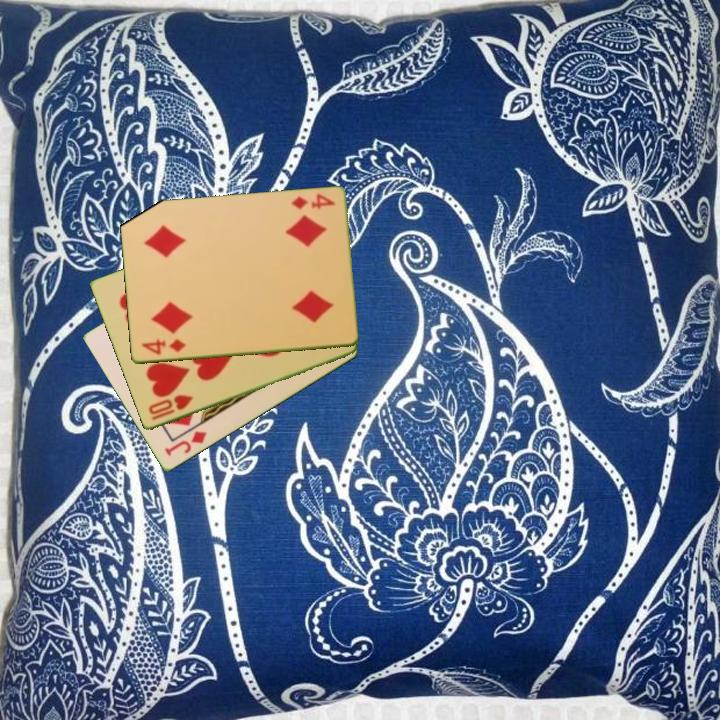10h: (145, 391, 196, 423)
4d: (138, 335, 188, 358), (287, 191, 338, 213)
Jd: (161, 428, 210, 460)
